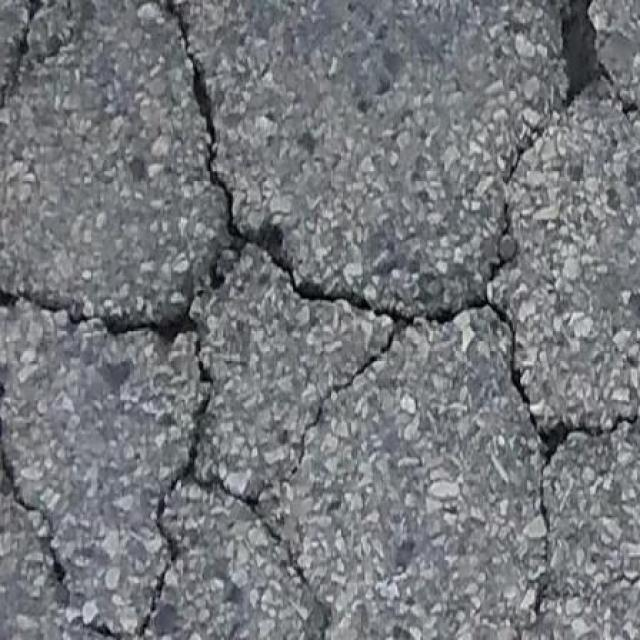Crack: (168, 0, 640, 624), (0, 380, 278, 640), (4, 268, 224, 384), (560, 0, 640, 119), (0, 0, 42, 127), (283, 539, 331, 639)
